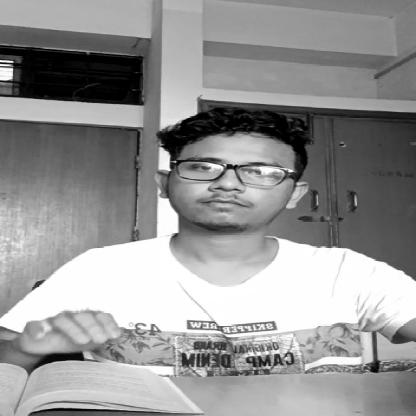Normal: (167, 112, 302, 236)
